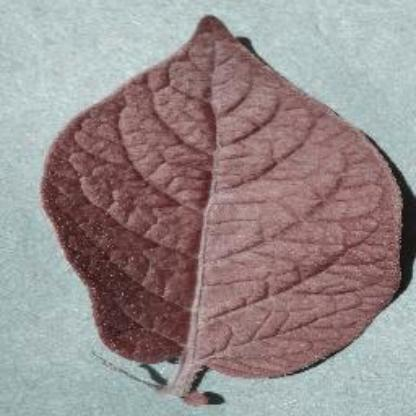Healthy-plant: (40, 12, 404, 406)
